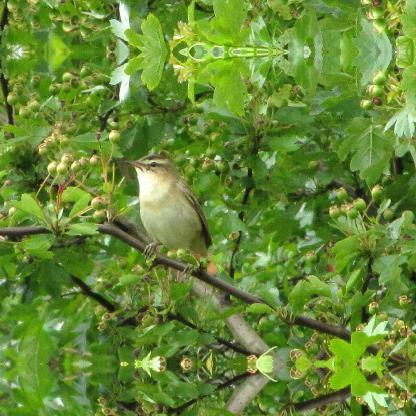Bird: (102, 152, 214, 282)
